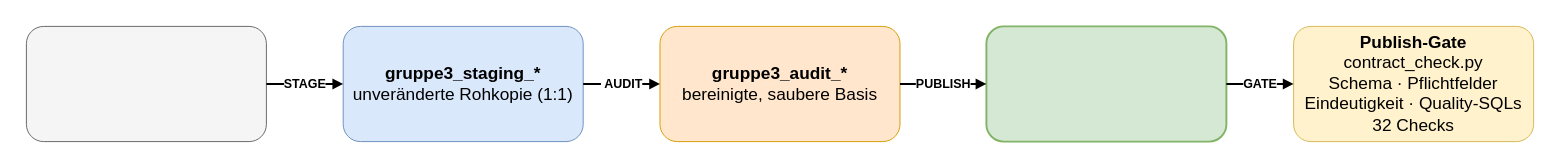
The diagram is 1559 pixels wide and 167 high, and some of its shapes have lost their labels. Here are the shapes that lost their labels. From the top down, the centre of each, then its label:
At point (145, 83): "default.project_* Rohdaten · 4 Quelltabellen nur lesend".
At point (1106, 83): "gruppe3_dim_* / fact_* Datenprodukt 4 Dimensionen + 5 Fakten".
